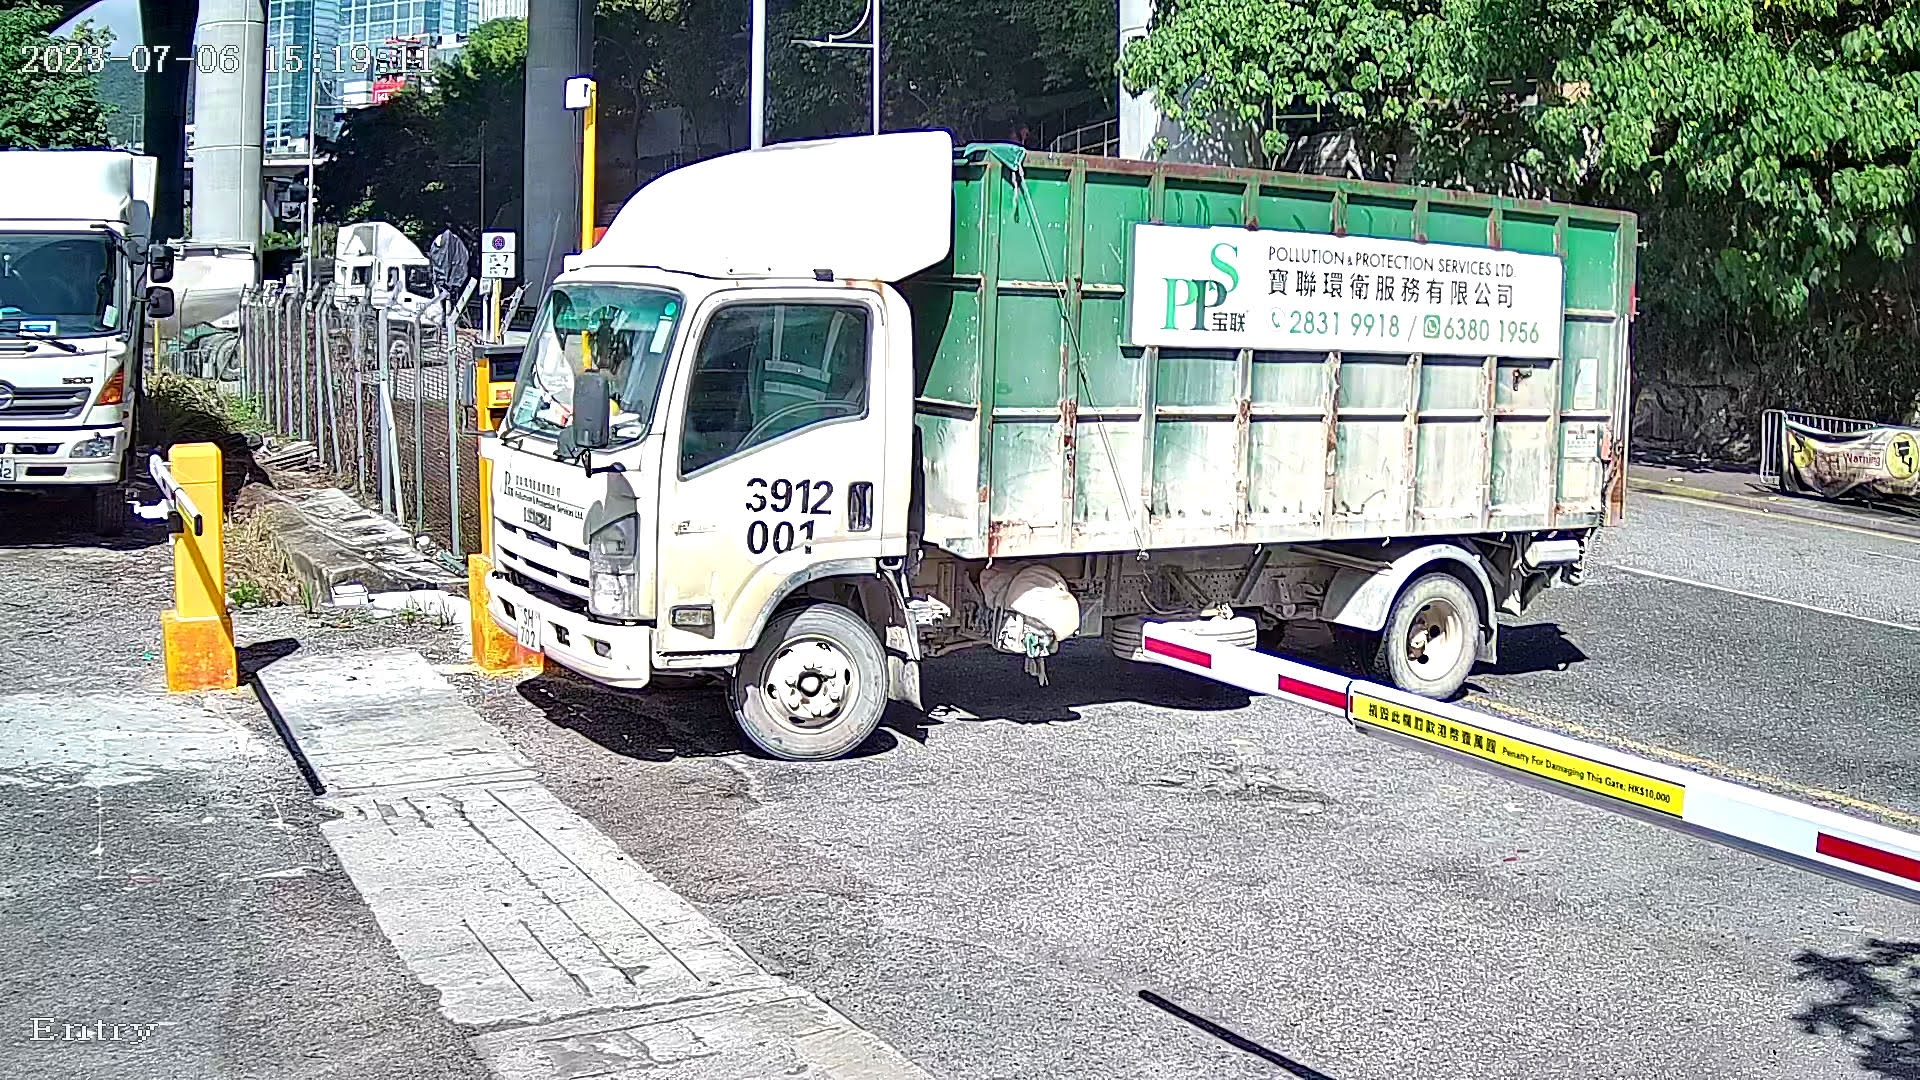truck_small: (473, 102, 1677, 766)
